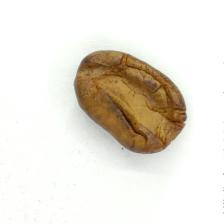NG: (87, 59, 173, 146)
